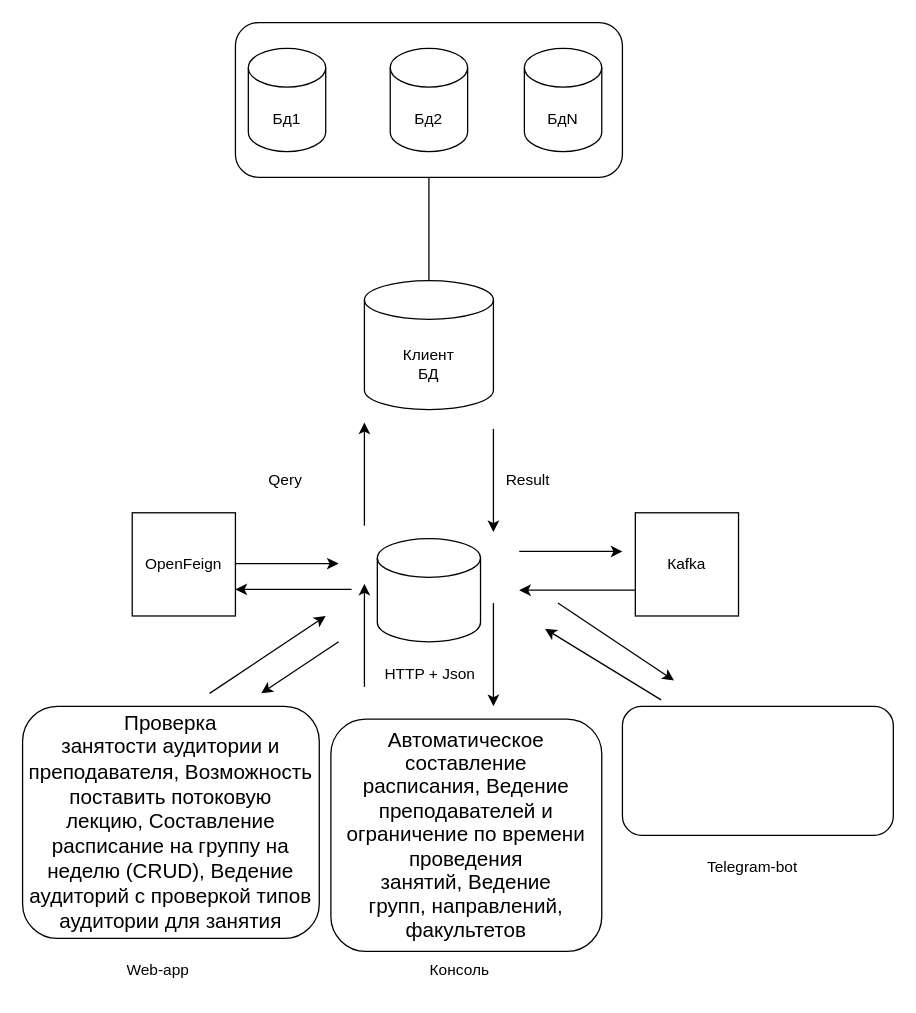
Some shapes in this 916 by 1013 pixel diagram are drawn without their labels. Here are the shapes that lost their labels. From the top down, the centre of each, then its label:
At point (428, 589): "Web-Server".
At point (757, 770): "Формирование печатной версии расписания".
